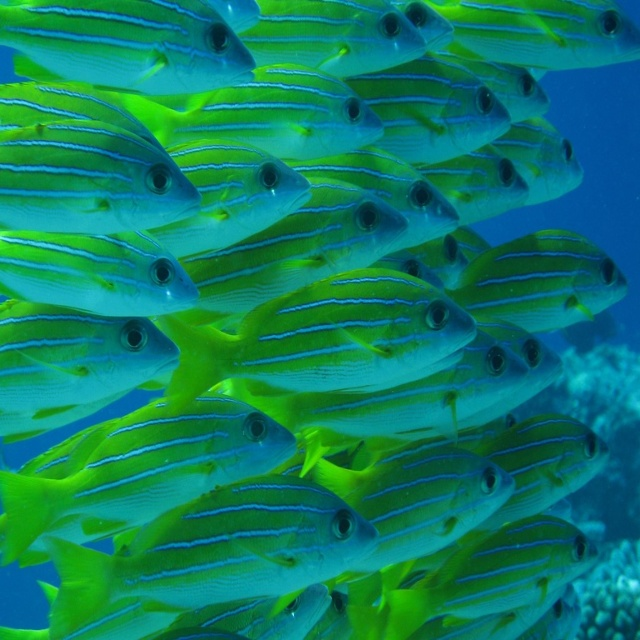Fish: (0, 1, 640, 639)
